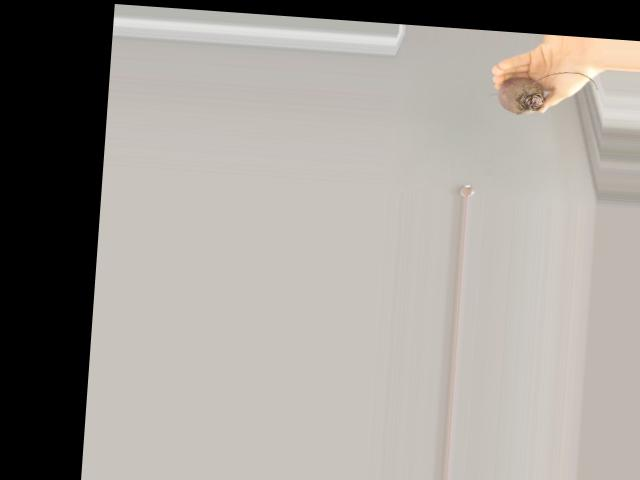beet: (484, 65, 597, 119)
